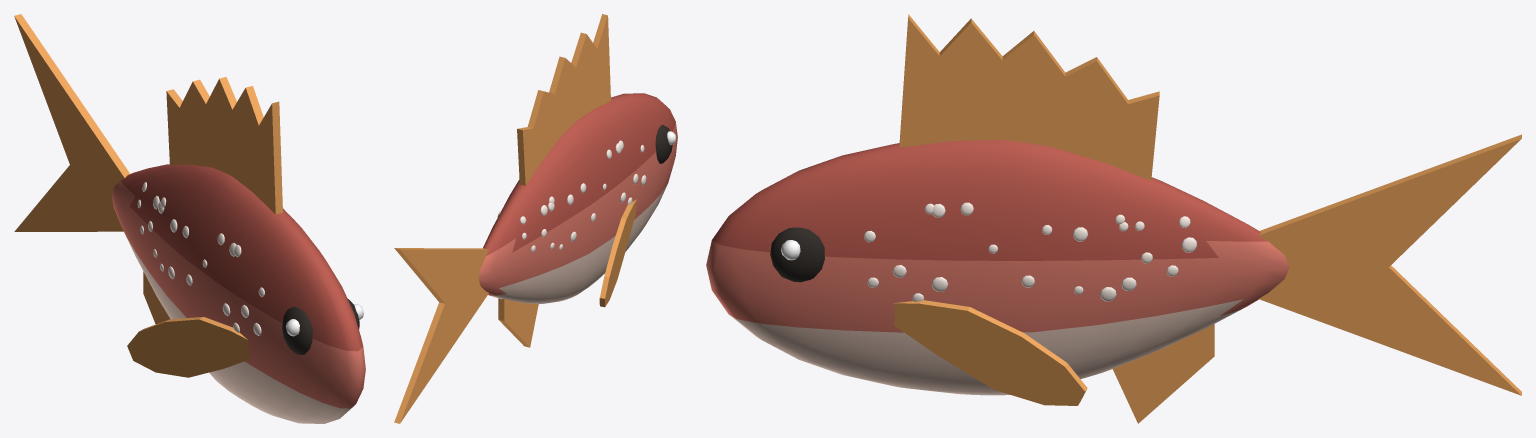
File: fish-flower-scorpionfish.glb
3 renders of one model, left to right at view 1: azimuth 30°, elevation 25°; view 2: azimuth 150°, elevation 25°; view 3: azimuth 270°, elevation 25°, orthographic. The views are drawn at different scales.
Parts seen in each view (by area): view 1: fish; view 2: fish; view 3: fish.
Boxes of the visible parts, x1,y1,x2,y2 form: fish: (14, 14, 365, 423); fish: (394, 14, 677, 423); fish: (706, 14, 1521, 423).
Size of the model in its own units: 0.1225 by 0.269 by 0.49.
